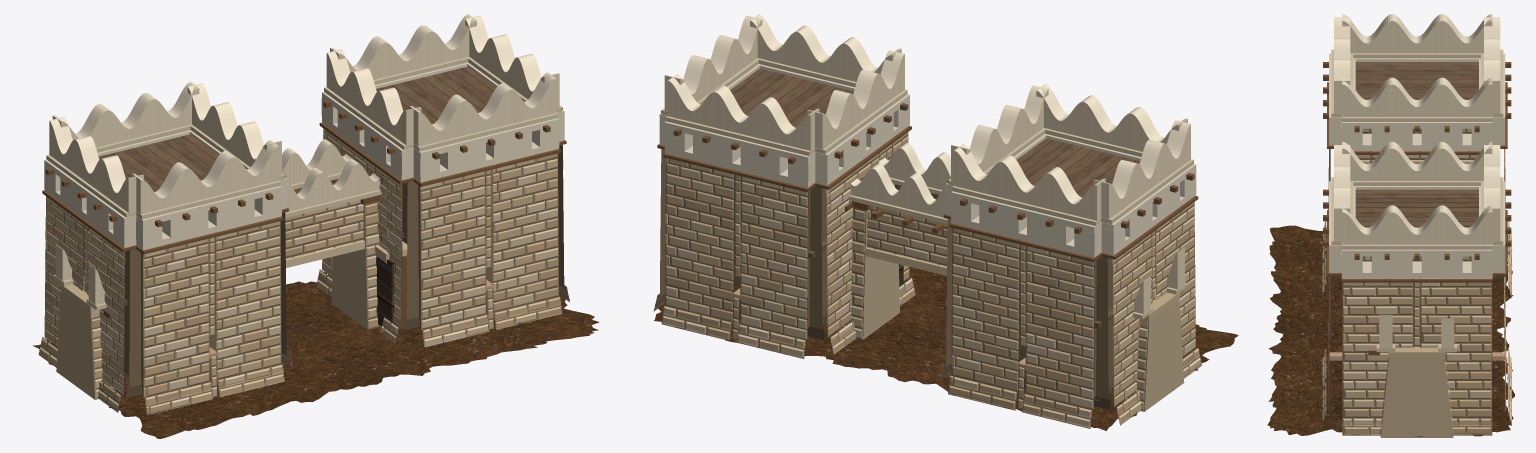
The model's file is gatehouse@2.glb.
The picture shows the model from 3 angles, left to right: view 1: azimuth 30°, elevation 25°; view 2: azimuth 150°, elevation 25°; view 3: azimuth 270°, elevation 25°; orthographic projection. The views are drawn at different scales.
Parts seen in each view (by area): view 1: part_1, part_3, part_15, part_26, part_39, part_31, part_6, part_33, part_41, part_13, part_40, part_32 (+6 smaller); view 2: part_1, part_3, part_15, part_26, part_35, part_27, part_6, part_33, part_41, part_28, part_36, part_10 (+5 smaller); view 3: part_1, part_3, part_15, part_26, part_37, part_29, part_6, part_38, part_34, part_30, part_31, part_42 (+12 smaller).
Boxes of the visible parts, x1,y1,x2,y2 form: part_1: [38, 128, 569, 414]; part_3: [49, 14, 559, 304]; part_15: [32, 274, 599, 438]; part_26: [83, 66, 495, 398]; part_39: [413, 118, 559, 182]; part_31: [136, 186, 281, 249]; part_6: [42, 100, 566, 329]; part_33: [44, 159, 136, 247]; part_41: [321, 92, 413, 180]; part_13: [376, 256, 395, 326]; part_40: [413, 113, 558, 151]; part_32: [136, 181, 280, 219]; part_1: [653, 132, 1201, 428]; part_3: [664, 14, 1190, 314]; part_15: [654, 267, 1238, 430]; part_26: [730, 68, 1155, 328]; part_35: [664, 121, 815, 187]; part_27: [951, 191, 1101, 257]; part_6: [657, 103, 1198, 261]; part_33: [1101, 164, 1196, 255]; part_41: [815, 94, 909, 185]; part_28: [952, 186, 1101, 225]; part_36: [666, 116, 815, 156]; part_10: [866, 247, 946, 275]; part_1: [1322, 128, 1511, 437]; part_3: [1334, 14, 1500, 352]; part_15: [1267, 225, 1514, 436]; part_26: [1355, 62, 1478, 227]; part_37: [1341, 249, 1492, 278]; part_29: [1341, 122, 1492, 150]; part_6: [1323, 62, 1511, 355]; part_38: [1342, 241, 1492, 249]; part_34: [1350, 53, 1480, 58]; part_30: [1342, 114, 1492, 121]; part_31: [1329, 53, 1355, 145]; part_42: [1350, 181, 1483, 185].
Bounding box in the file's own units: 12.48 × 5.91 × 6.21.
Materials: 17 (7 with a texture image).
